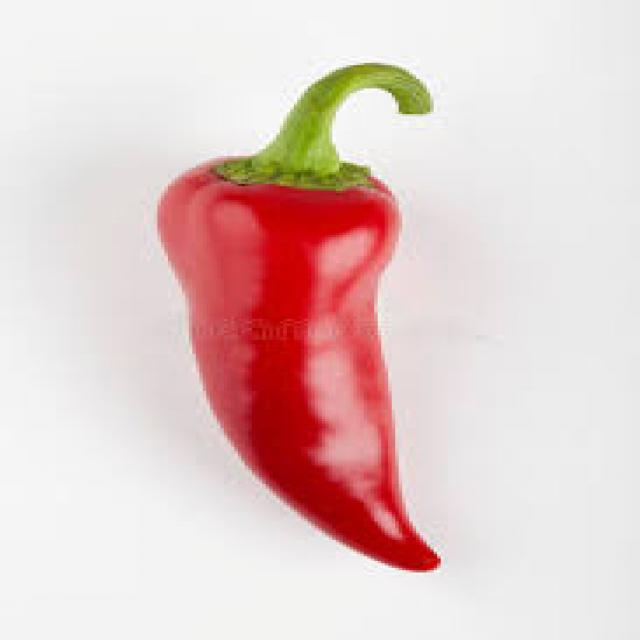organic waste: (150, 61, 434, 570)
